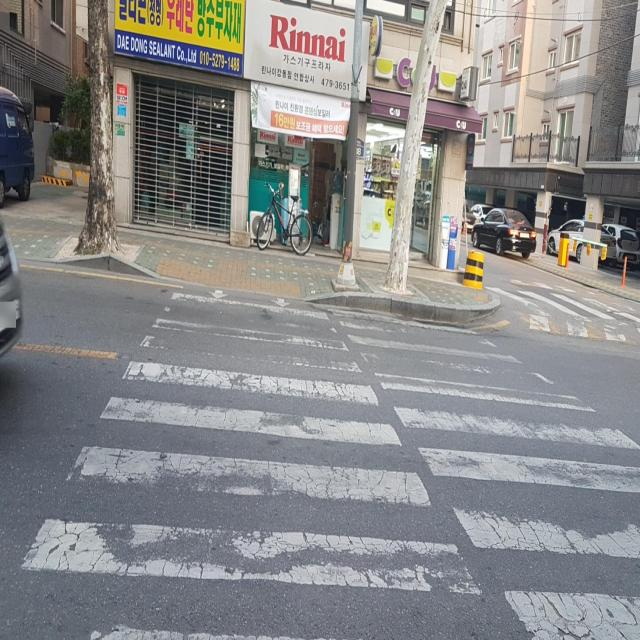횡단보도: (19, 287, 639, 640), (492, 284, 640, 324)
